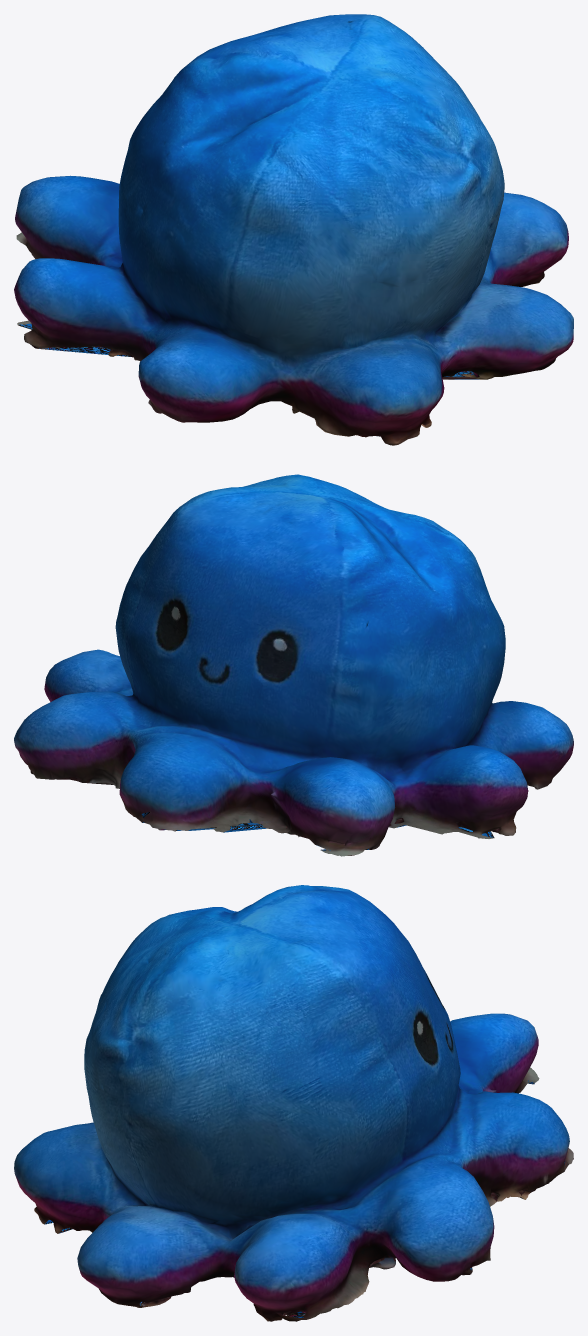
File: octopus_mesh_lowpoly_manifold.obj
3 renders of one model, top to bottom at view 1: azimuth 30°, elevation 25°; view 2: azimuth 150°, elevation 25°; view 3: azimuth 270°, elevation 25°, orthographic. The views are drawn at different scales.
Parts seen in each view (by area): view 1: octopus_mesh_lowpoly; view 2: octopus_mesh_lowpoly; view 3: octopus_mesh_lowpoly.
Boxes of the visible parts, left/top/right/bottom form: octopus_mesh_lowpoly: left=14, top=14, right=573, bottom=445; octopus_mesh_lowpoly: left=14, top=474, right=573, bottom=856; octopus_mesh_lowpoly: left=14, top=885, right=573, bottom=1321.
Bounding box in the file's own units: 1.37 × 0.782 × 1.24.
Materials: 4 (4 with a texture image).
